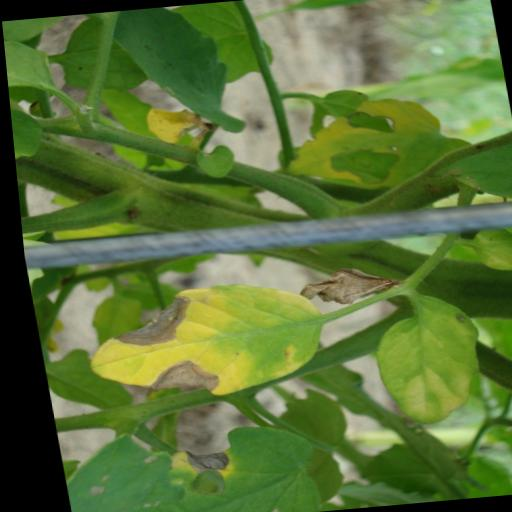Early Blight: (70, 274, 332, 401), (353, 290, 486, 430)
